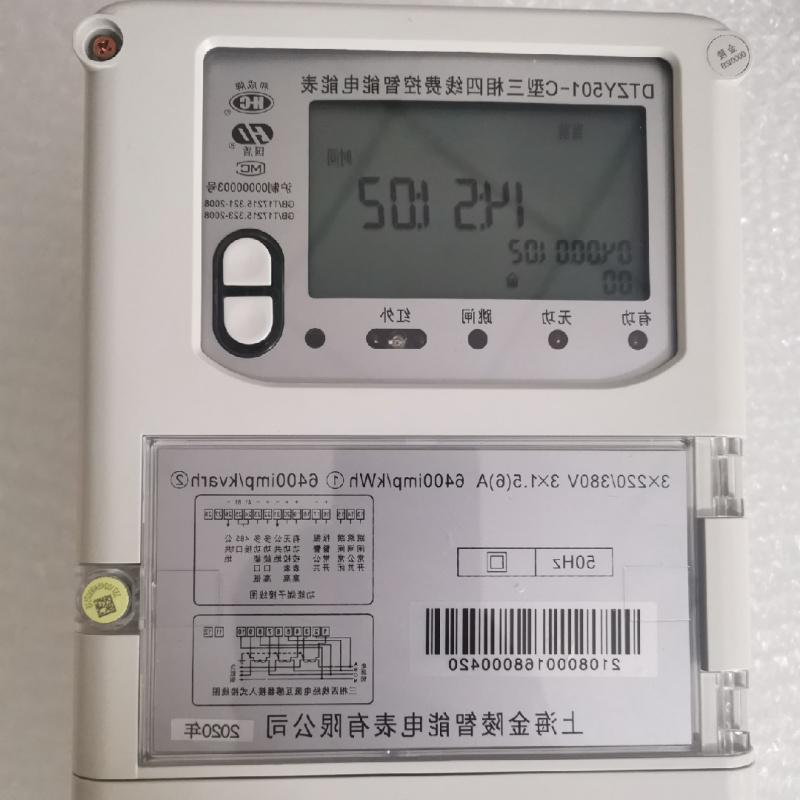digital: (87, 4, 756, 800)
